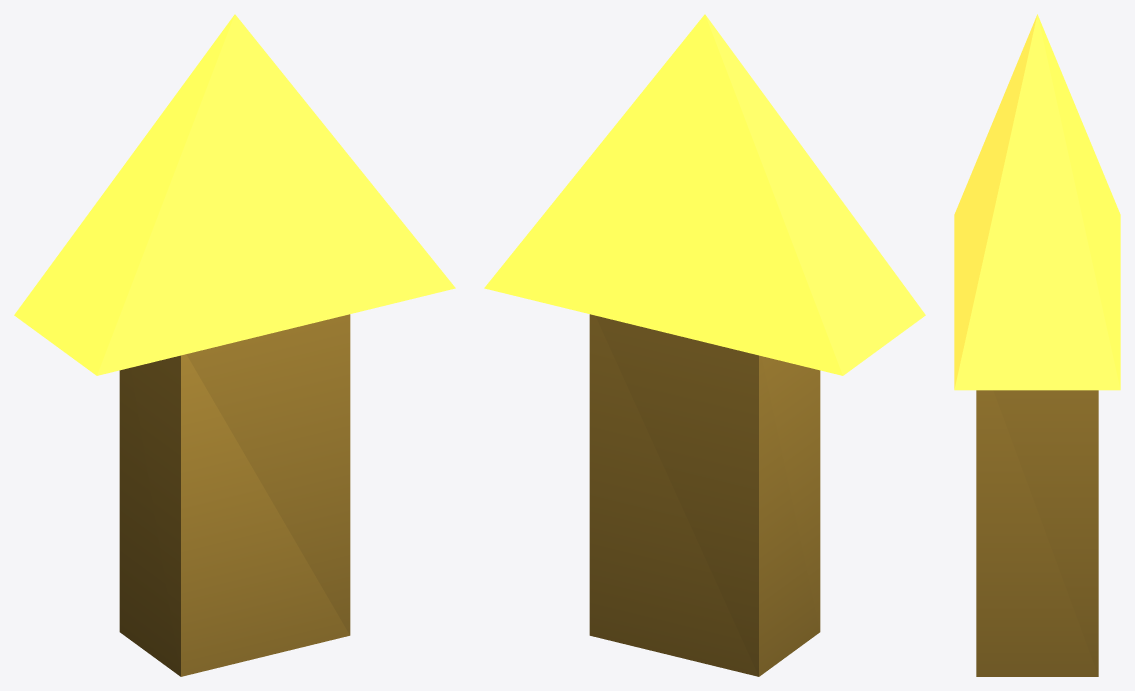
File: upgrade_arrow.glb
3 renders of one model, left to right at view 1: azimuth 30°, elevation 25°; view 2: azimuth 150°, elevation 25°; view 3: azimuth 270°, elevation 25°, orthographic.
Parts seen in each view (by area): view 1: upgrade_arrow; view 2: upgrade_arrow; view 3: upgrade_arrow.
Part boxes in pixels (x1,y1,x2,y2): upgrade_arrow: (14, 14, 455, 676); upgrade_arrow: (484, 14, 925, 676); upgrade_arrow: (954, 14, 1120, 676).
Bounding box in the file's own units: 0.3394 × 0.56 × 0.1358.
